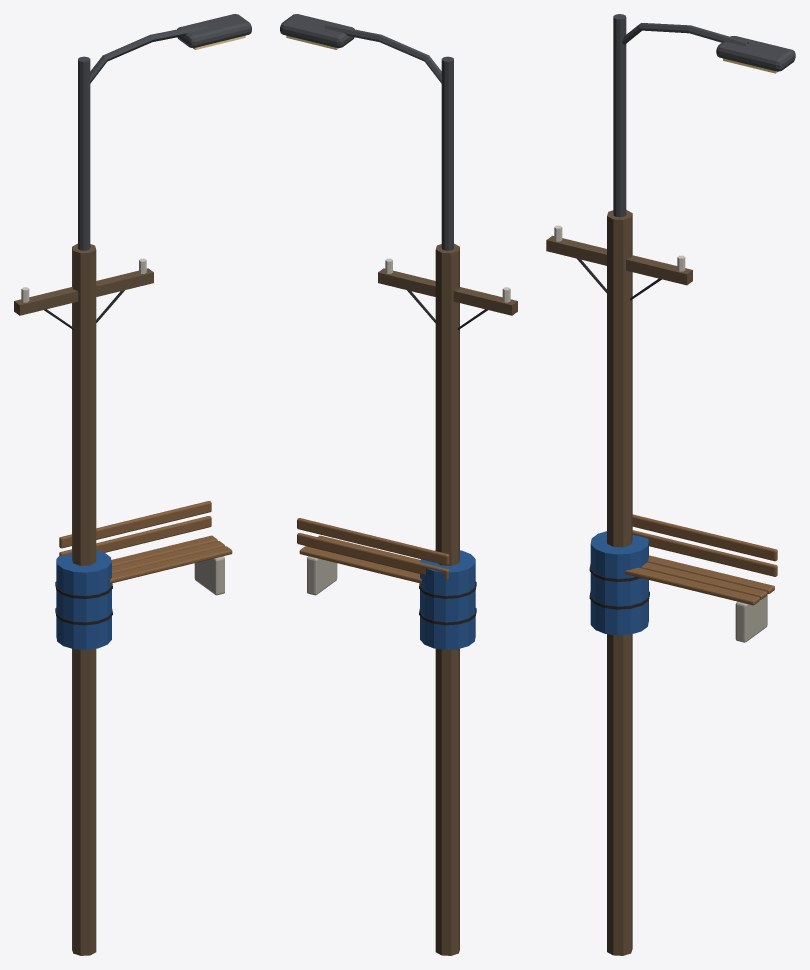
The model's file is props.glb.
3 views of the same model, side by side, from view 1: azimuth 30°, elevation 25°; view 2: azimuth 150°, elevation 25°; view 3: azimuth 330°, elevation 25° (orthographic). The views are drawn at different scales.
Parts seen in each view (by area): view 1: PowerPole, Bench, LampPost, Drum; view 2: PowerPole, Bench, LampPost, Drum; view 3: PowerPole, Bench, LampPost, Drum.
Part boxes in pixels (left/top/right/bottom): PowerPole: left=14, top=243, right=153, bottom=955; Bench: left=59, top=501, right=232, bottom=595; LampPost: left=78, top=14, right=251, bottom=250; Drum: left=55, top=550, right=112, bottom=649; PowerPole: left=378, top=243, right=517, bottom=955; Bench: left=297, top=518, right=449, bottom=595; LampPost: left=280, top=14, right=453, bottom=250; Drum: left=419, top=550, right=476, bottom=649; PowerPole: left=546, top=210, right=692, bottom=955; Bench: left=625, top=514, right=777, bottom=642; LampPost: left=613, top=14, right=795, bottom=217; Drum: left=589, top=531, right=649, bottom=635.
Size of the model in its own units: 2.72 by 10.23 by 0.6.
